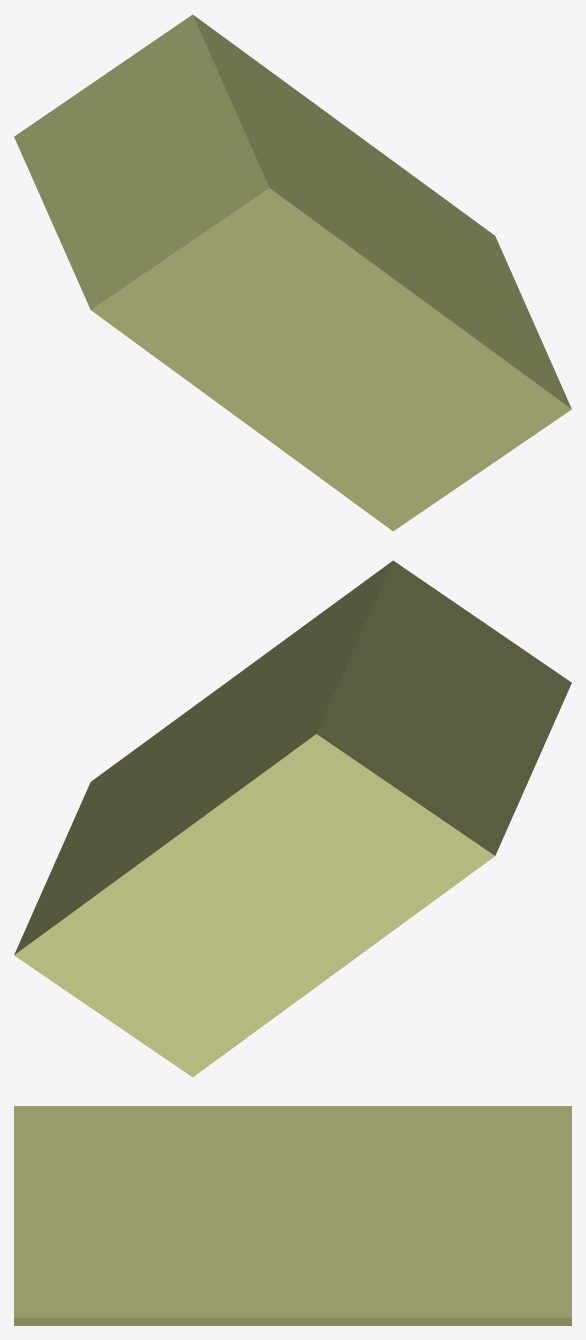
3 views of the same model, one above another, from view 1: azimuth 30°, elevation 25°; view 2: azimuth 150°, elevation 25°; view 3: azimuth 270°, elevation 25° (orthographic). The views are drawn at different scales.
Parts seen in each view (by area): view 1: 0_1_3_2_1_2_1_3_3_3_0_0; view 2: 0_1_3_2_1_2_1_3_3_3_0_0; view 3: 0_1_3_2_1_2_1_3_3_3_0_0.
Boxes of the visible parts, left/top/right/bottom form: 0_1_3_2_1_2_1_3_3_3_0_0: left=14, top=14, right=571, bottom=531; 0_1_3_2_1_2_1_3_3_3_0_0: left=14, top=560, right=571, bottom=1077; 0_1_3_2_1_2_1_3_3_3_0_0: left=14, top=1106, right=571, bottom=1325.
Bounding box in the file's own units: 4.39 × 4.44 × 9.
